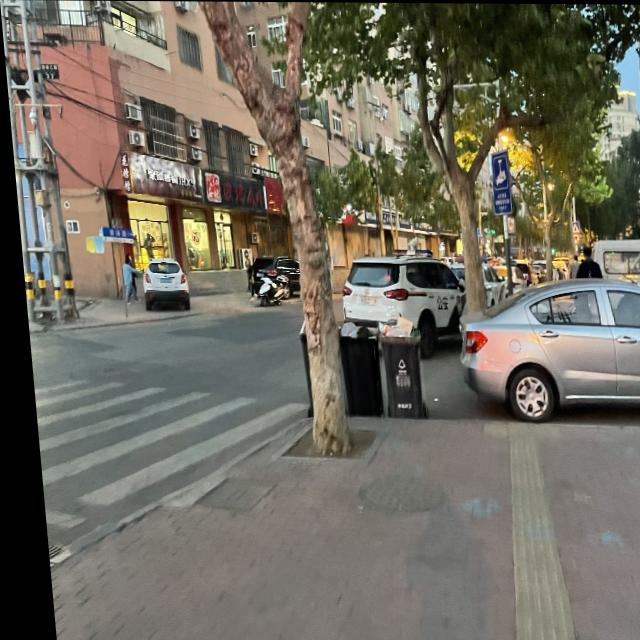overflow: (372, 317, 420, 417), (331, 321, 377, 414)
